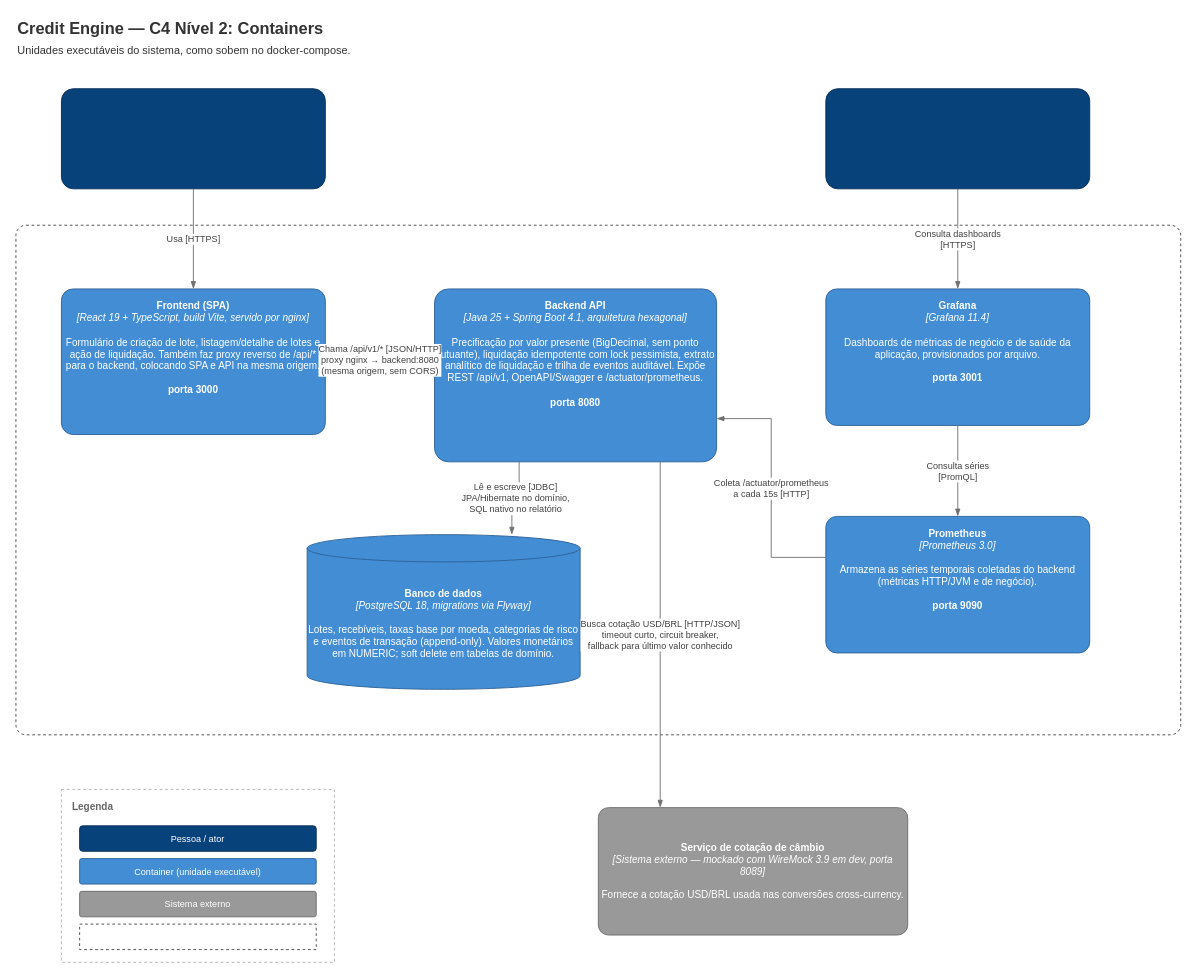
The diagram is 1197 pixels wide and 978 high, and some of its shapes have lost their labels. Here are the shapes that lost their labels. From the top down, the box of each, then its label:
(61, 88, 325, 189): Operador da mesa de operações [Pessoa]
(825, 88, 1090, 189): Engenharia / SRE [Pessoa]
(15, 224, 1181, 735): Sistema: Credit Engine
(79, 923, 316, 950): Fronteira do sistema
